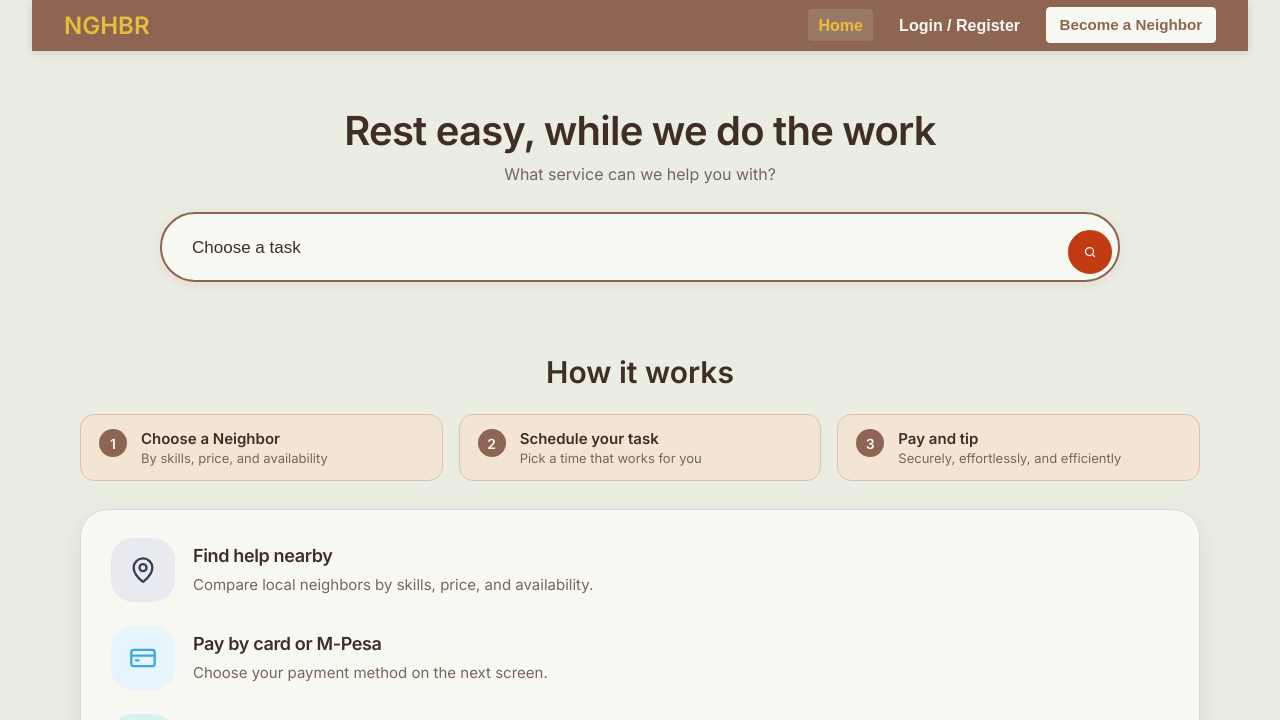
it: opens the account screen from the combined login and register button
The width and height of the screenshot is (1280, 720).
What coordinates should you click on to do the following:
click the button "Login / Register"
I would click on:
 (960, 25)
Its box is x1=889 y1=9 x2=1030 y2=41.
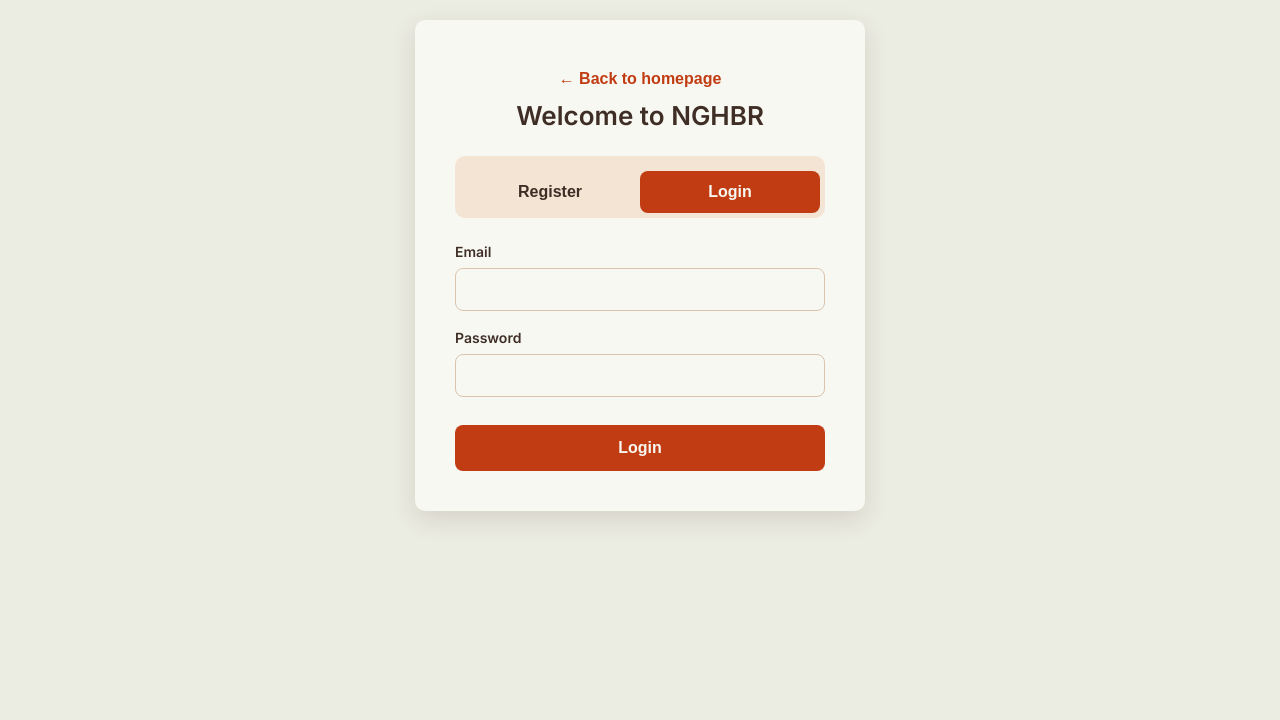
Expected: the button "Register" is shown, x1=460 y1=171 x2=640 y2=213
Result: the heading "Welcome to NGHBR" is shown at x1=516 y1=100 x2=764 y2=131
Result: the 1st button "Login" is shown at x1=640 y1=171 x2=820 y2=213
